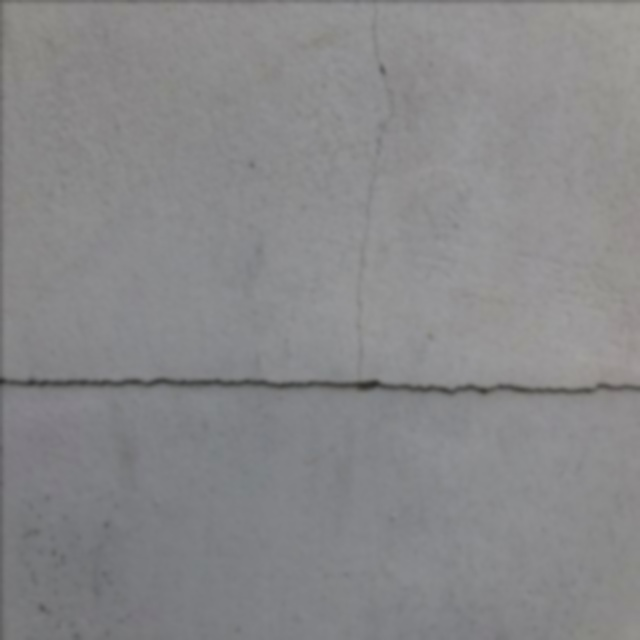SurfaceCrack: (320, 0, 423, 518)
